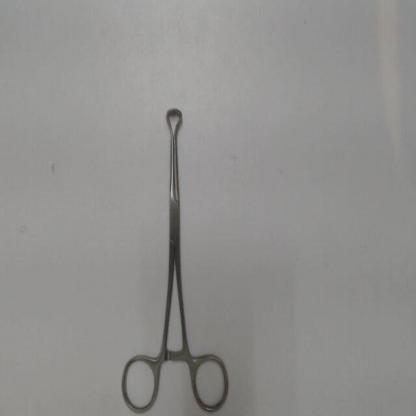Babcock Tissue Forceps: (118, 98, 232, 415)
